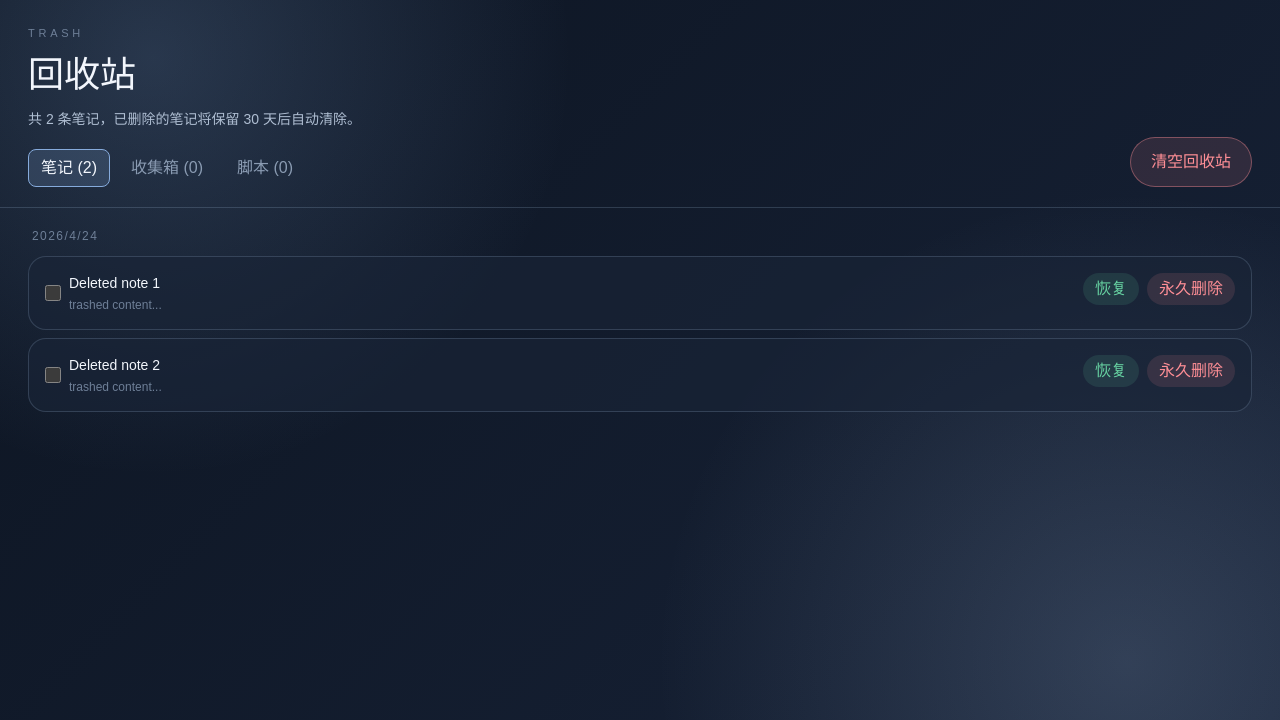
Scenario: TrashPanel › 清空回收站后显示空态
The width and height of the screenshot is (1280, 720).
Click the button "清空回收站" at (1191, 162), box [1130,138,1252,188]
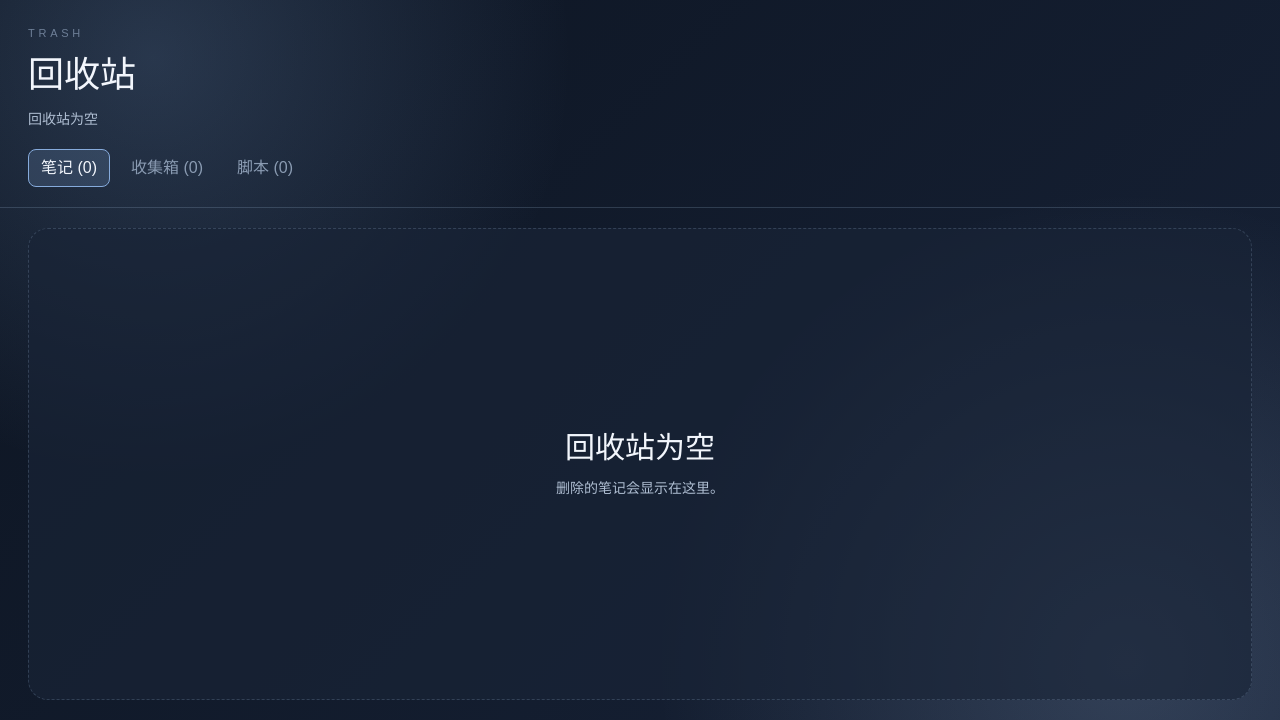
Check: the text "回收站为空" below "Trash" is shown, box [28,112,98,128]
